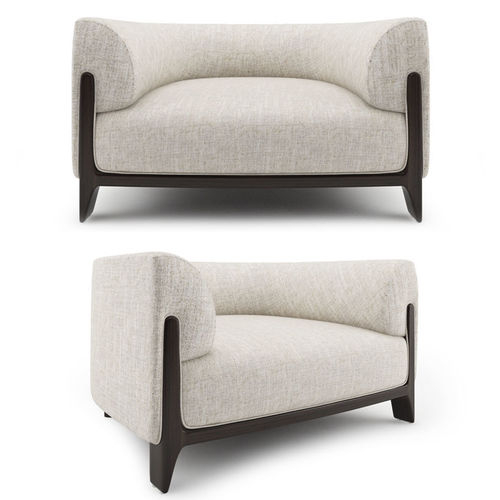chairs: (87, 251, 420, 494), (66, 18, 434, 225)
